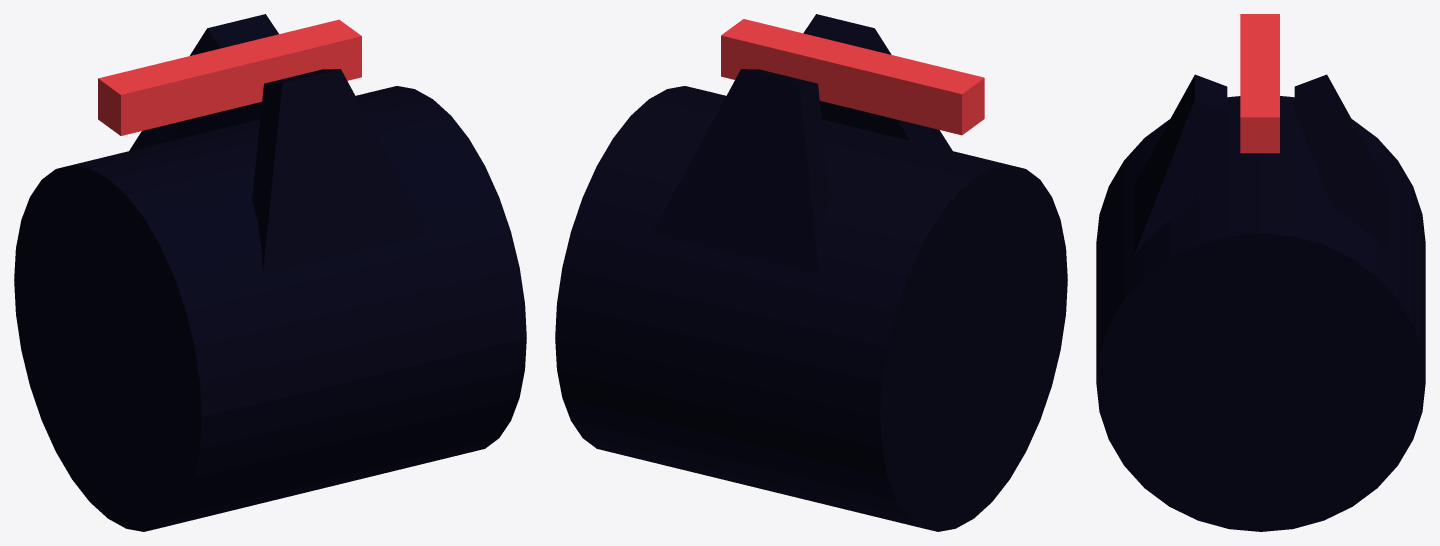
The model's file is Arma Pistola.fbx.
The picture shows the model from 3 angles, left to right: view 1: azimuth 30°, elevation 25°; view 2: azimuth 150°, elevation 25°; view 3: azimuth 270°, elevation 25°; orthographic projection. The views are drawn at different scales.
Visible parts, largest first — view 1: Arma Pistola; view 2: Arma Pistola; view 3: Arma Pistola.
Part boxes in pixels (x1,y1,x2,y2): Arma Pistola: (14, 14, 526, 531); Arma Pistola: (555, 14, 1067, 531); Arma Pistola: (1096, 14, 1425, 531).
Size of the model in its own units: 18.75 by 23.82 by 18.75.
